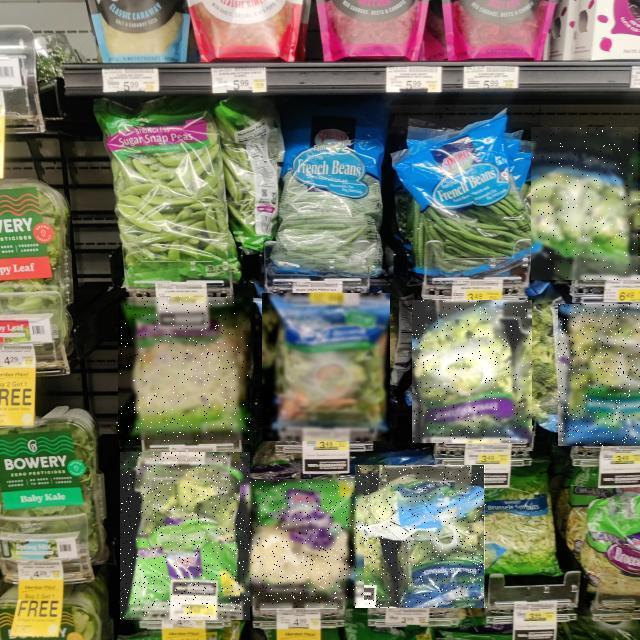Broccoli: (121, 452, 251, 620), (262, 293, 390, 441), (412, 300, 532, 443)
Brussel Sprouts: (356, 465, 488, 608), (532, 127, 640, 280)
Cauliflower: (240, 480, 364, 608), (558, 304, 640, 446)
Lettuce: (118, 298, 250, 442)
